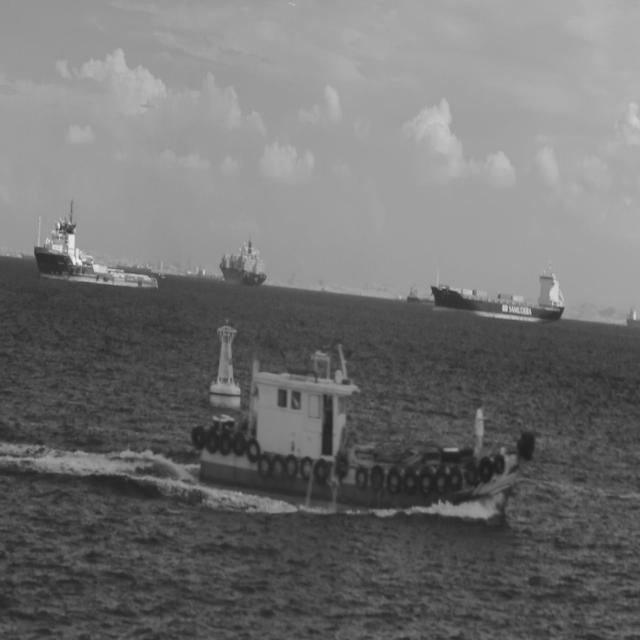buoy: (208, 316, 242, 412)
ship: (190, 341, 536, 529), (32, 197, 160, 290), (430, 257, 566, 325), (218, 233, 268, 287), (406, 280, 434, 304), (187, 264, 224, 280), (116, 260, 152, 273), (153, 270, 166, 279)
